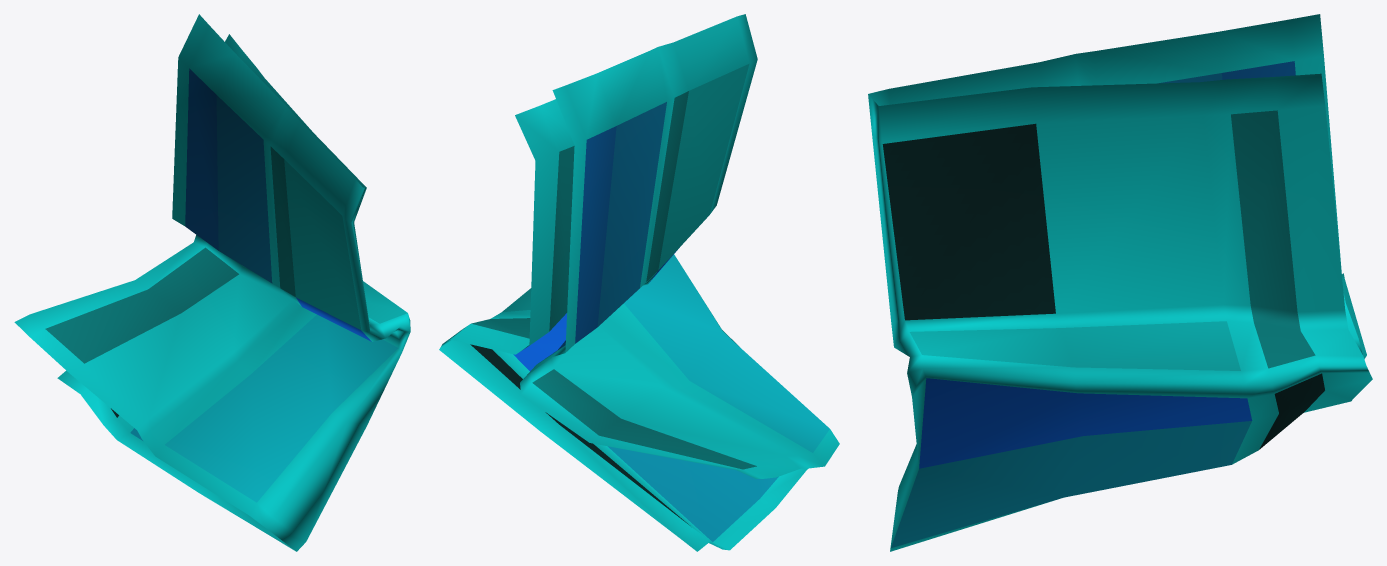
The model's file is OldNewspaper008.glb.
3 renders of one model, left to right at view 1: azimuth 30°, elevation 25°; view 2: azimuth 150°, elevation 25°; view 3: azimuth 270°, elevation 25°, orthographic. The views are drawn at different scales.
Parts seen in each view (by area): view 1: OldNewspaper008; view 2: OldNewspaper008; view 3: OldNewspaper008.
Boxes of the visible parts, x1,y1,x2,y2 form: OldNewspaper008: (14, 14, 410, 551); OldNewspaper008: (439, 14, 839, 551); OldNewspaper008: (868, 14, 1372, 551).
Size of the model in its own units: 0.0421 by 0.0656 by 0.0521.
